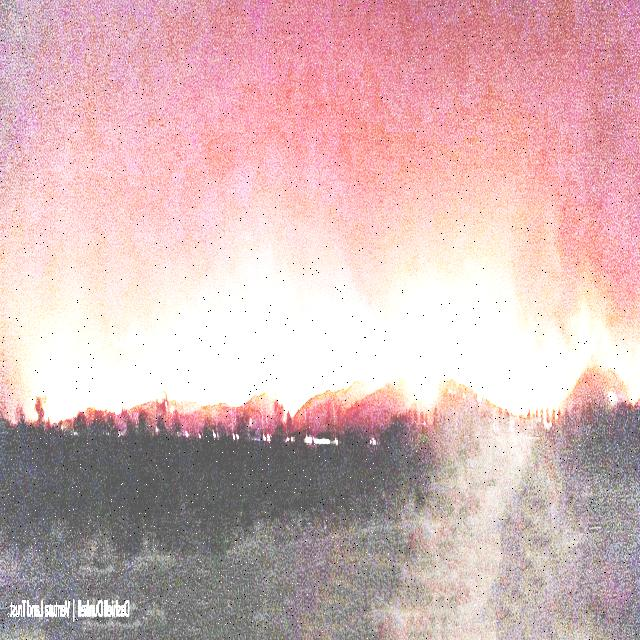api: (309, 347, 390, 408), (502, 380, 578, 426), (406, 340, 446, 409), (200, 374, 230, 422), (442, 359, 466, 391), (278, 375, 293, 417), (601, 356, 622, 380), (630, 383, 640, 415)
asap: (6, 148, 386, 446), (397, 156, 625, 426)
